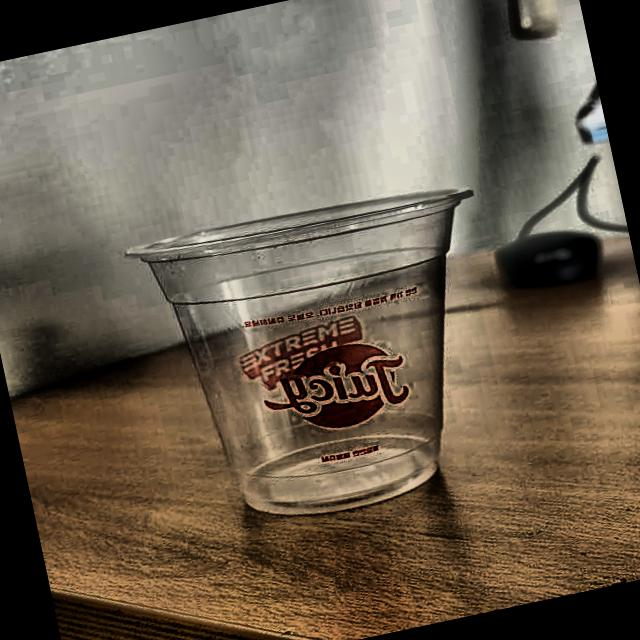plastic cup: (120, 170, 534, 547)
